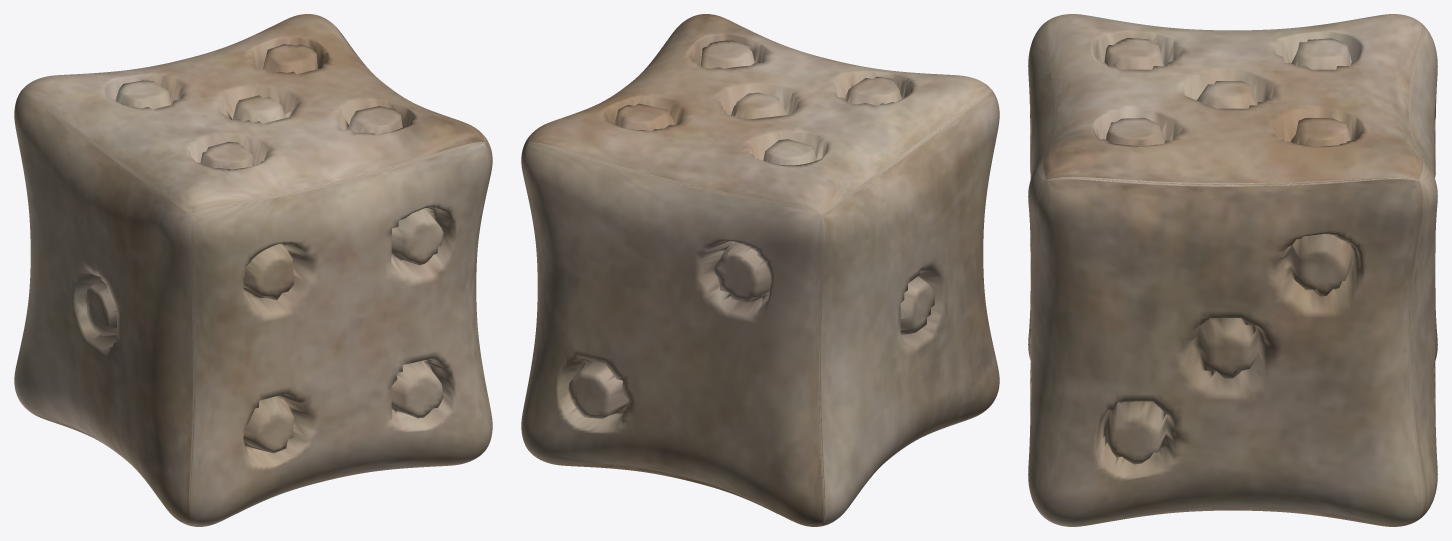
The model's file is cube_bone_s.glb.
3 renders of one model, left to right at view 1: azimuth 30°, elevation 25°; view 2: azimuth 150°, elevation 25°; view 3: azimuth 270°, elevation 25°, orthographic. The views are drawn at different scales.
Parts seen in each view (by area): view 1: Cube.003_copy; view 2: Cube.003_copy; view 3: Cube.003_copy.
Part boxes in pixels (x1=…): Cube.003_copy: x1=14, y1=14, x2=492, y2=526; Cube.003_copy: x1=521, y1=14, x2=999, y2=526; Cube.003_copy: x1=1028, y1=14, x2=1437, y2=526.
Size of the model in its own units: 1.69 by 1.69 by 1.69.
1 material, 1 textured.
